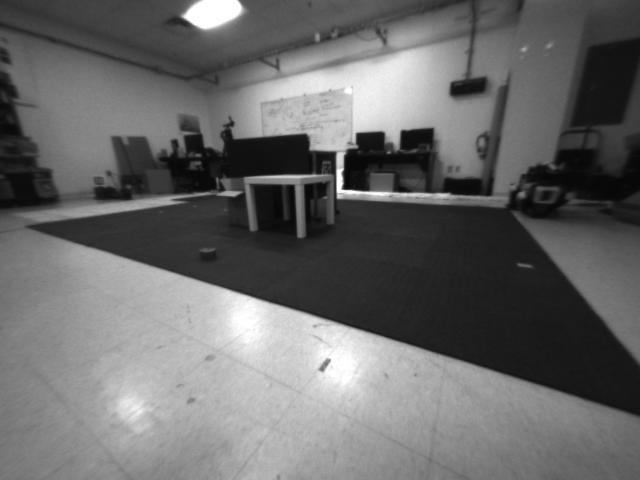dogtoy: (189, 241, 223, 270)
